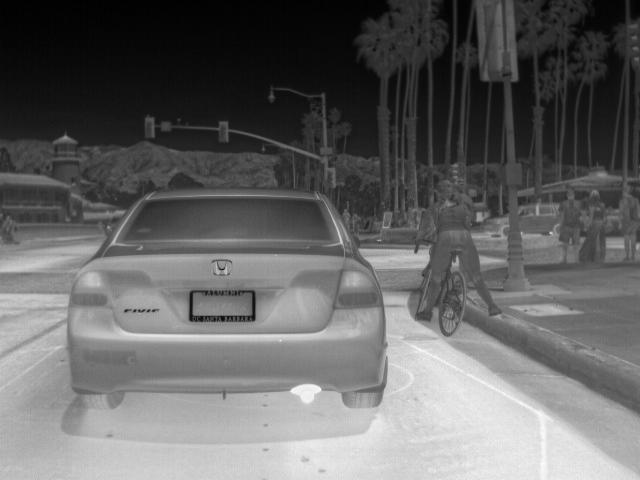car: (64, 186, 387, 410), (516, 200, 560, 234), (484, 210, 510, 239)
person: (413, 198, 504, 317), (553, 190, 586, 266), (577, 188, 609, 266), (617, 186, 639, 262), (0, 214, 17, 234), (340, 206, 352, 232)
